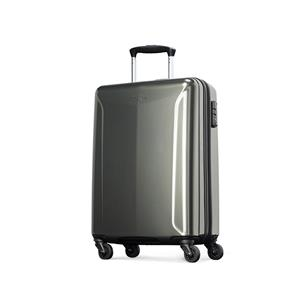luggage: (89, 44, 224, 263)
